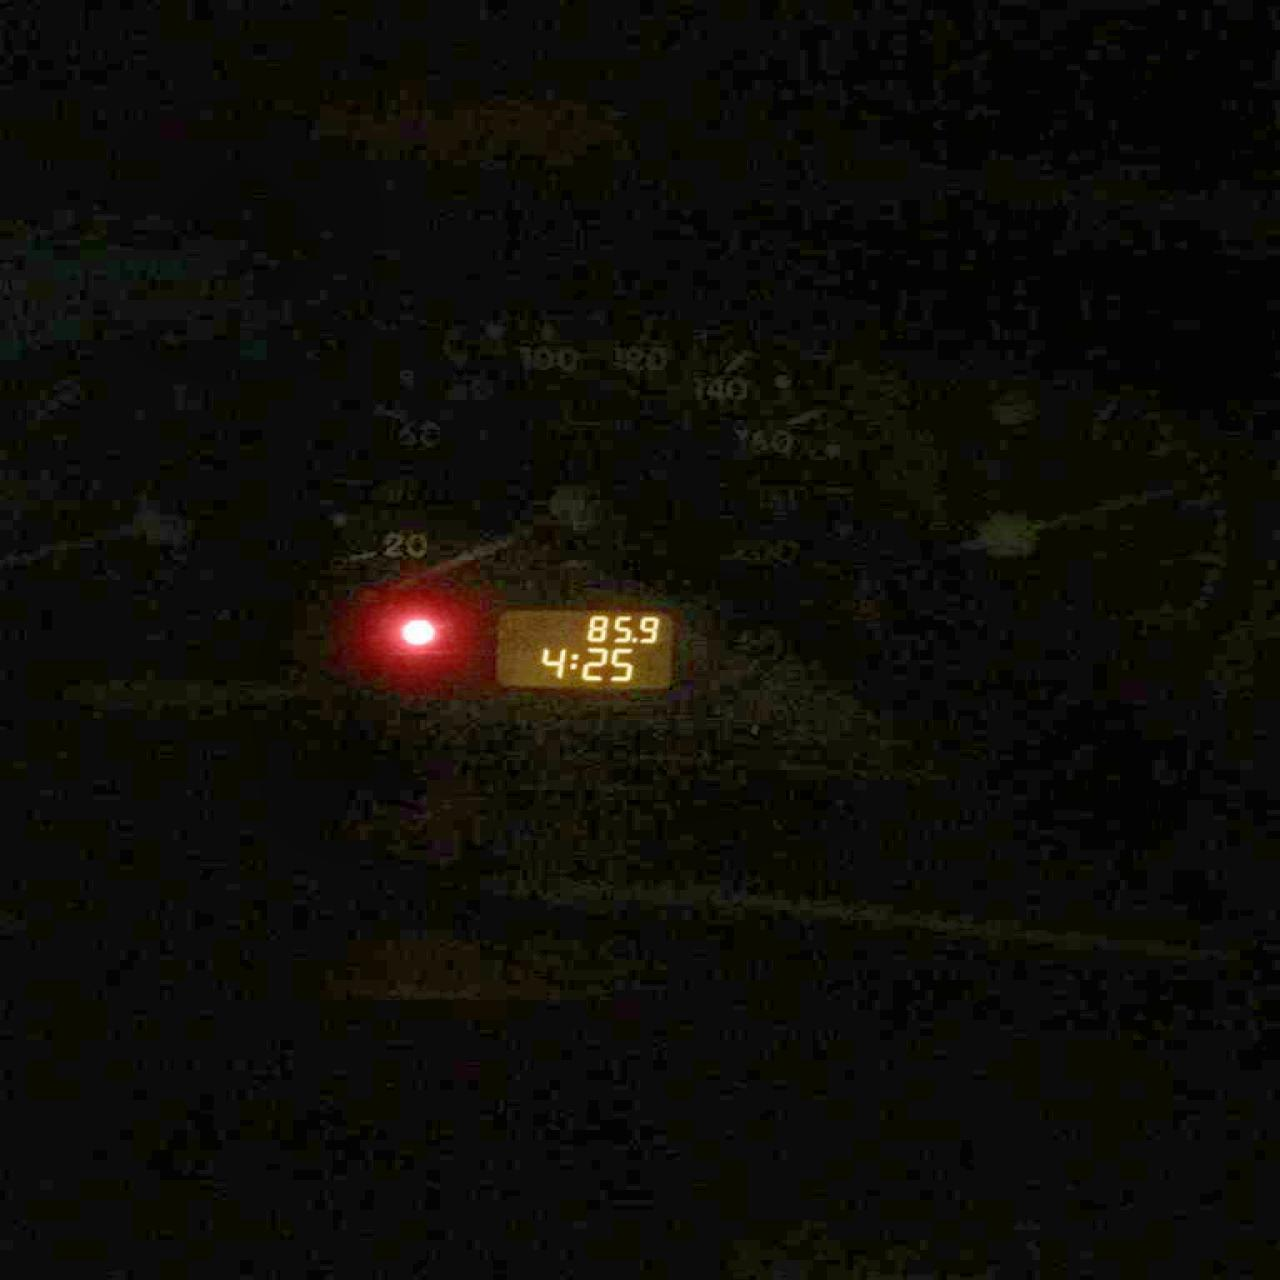-: (631, 636, 636, 642)
2: (578, 646, 607, 680)
4: (538, 646, 565, 679)
5: (608, 647, 632, 681), (612, 613, 632, 642)
8: (585, 613, 607, 642)
9: (636, 615, 659, 642)
X: (568, 653, 579, 668)
odometer: (491, 606, 676, 692)
